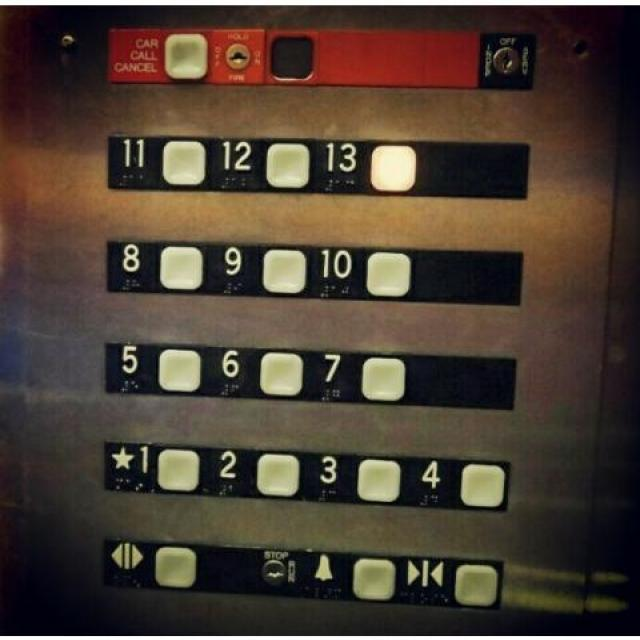10: (314, 240, 418, 302)
11: (101, 131, 208, 192)
12: (210, 133, 310, 195)
13: (317, 134, 420, 198)
2: (207, 444, 301, 501)
3: (308, 448, 403, 507)
4: (406, 453, 511, 514)
5: (100, 338, 203, 397)
6: (209, 340, 307, 401)
7: (310, 346, 410, 408)
8: (101, 235, 208, 296)
9: (212, 239, 308, 300)
alarm: (302, 546, 394, 604)
bt_keyhole: (208, 23, 323, 86)
close: (401, 551, 504, 611)
keyhole: (475, 30, 532, 90), (249, 543, 304, 599)
open: (99, 535, 204, 594)
s1: (99, 436, 200, 497)
text: (102, 24, 210, 86)
